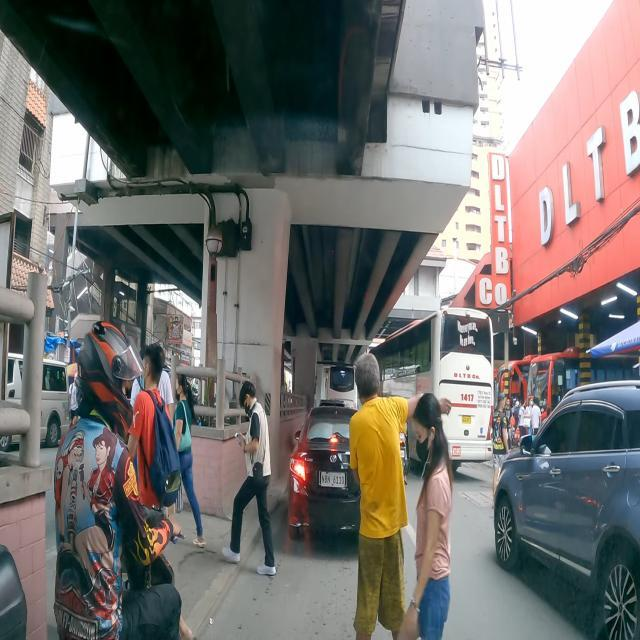bus: (369, 308, 494, 471), (526, 347, 640, 420), (493, 354, 538, 412), (326, 366, 358, 410)
car: (493, 380, 640, 640), (288, 406, 360, 540)
motorcycle: (0, 322, 181, 640)
